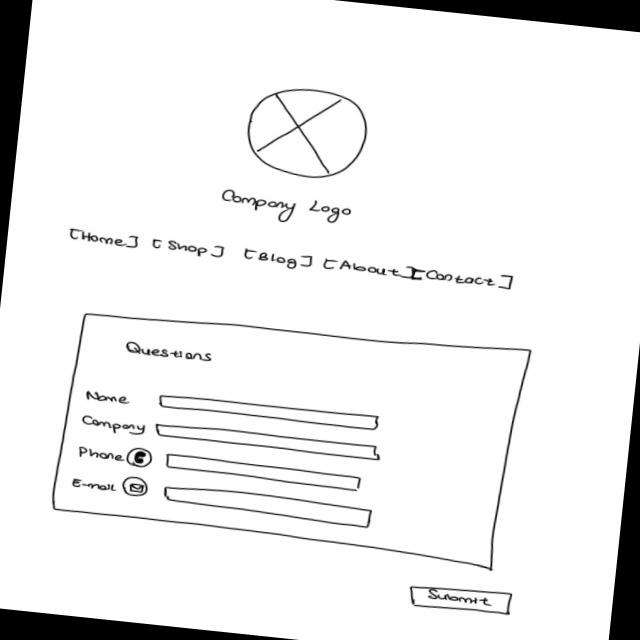button: (408, 582, 515, 618)
container: (47, 301, 534, 574)
icon-button: (126, 446, 155, 471), (121, 475, 151, 499)
image: (241, 82, 373, 186)
input: (162, 484, 375, 530), (158, 392, 382, 433), (154, 422, 384, 461), (165, 453, 366, 495)
label: (219, 188, 358, 232), (124, 341, 215, 366), (80, 415, 151, 440), (78, 447, 127, 465), (83, 390, 134, 407), (69, 477, 119, 493)
link: (411, 265, 517, 293), (323, 258, 416, 281), (150, 238, 230, 262), (239, 247, 315, 272), (68, 227, 142, 250)
